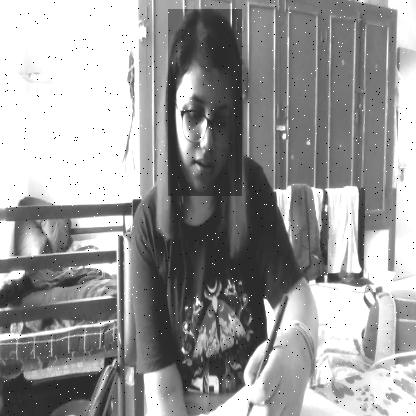Distracted: (168, 9, 242, 196)
